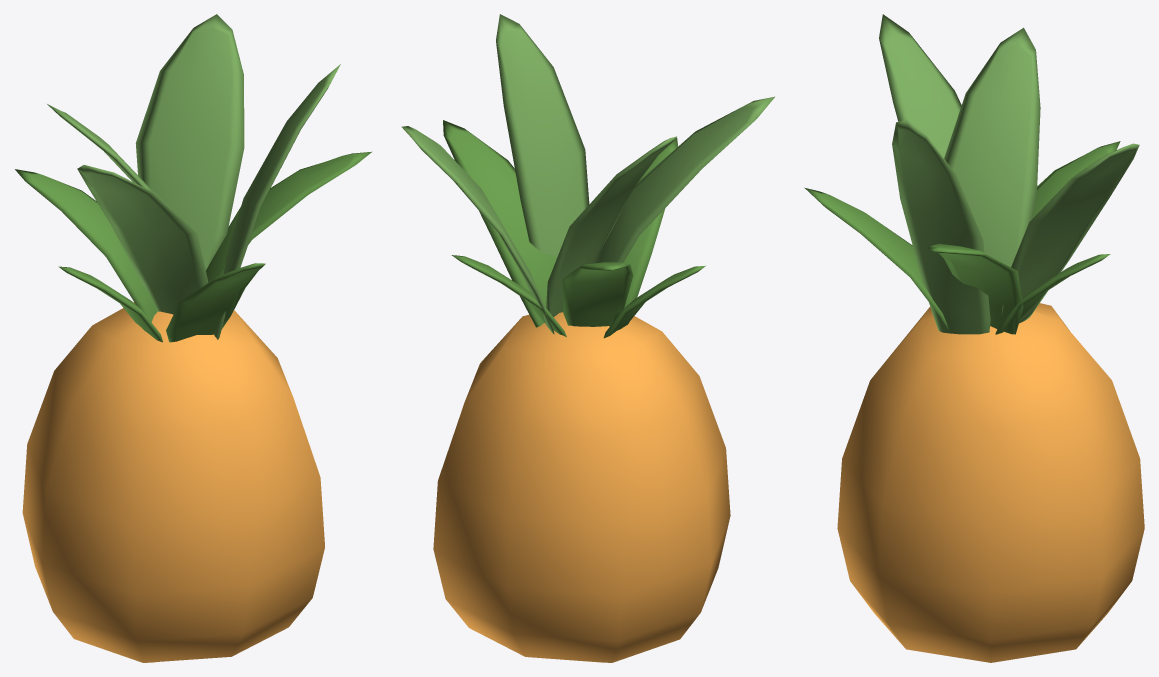
The model's file is pineapple.fbx.
The picture shows the model from 3 angles, left to right: view 1: azimuth 30°, elevation 25°; view 2: azimuth 150°, elevation 25°; view 3: azimuth 270°, elevation 25°; orthographic projection. The views are drawn at different scales.
Parts seen in each view (by area): view 1: pineapple; view 2: pineapple; view 3: pineapple.
Boxes of the visible parts, x1=… form: pineapple: x1=15, y1=14, x2=371, y2=662; pineapple: x1=401, y1=14, x2=774, y2=662; pineapple: x1=804, y1=14, x2=1144, y2=662.
Size of the model in its own units: 49.5 by 86.21 by 46.1.
